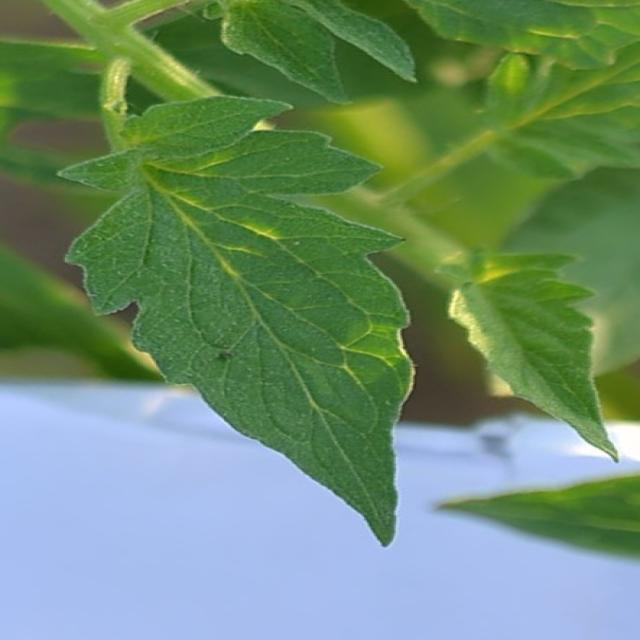healthy: (42, 97, 439, 550), (452, 258, 640, 466)
